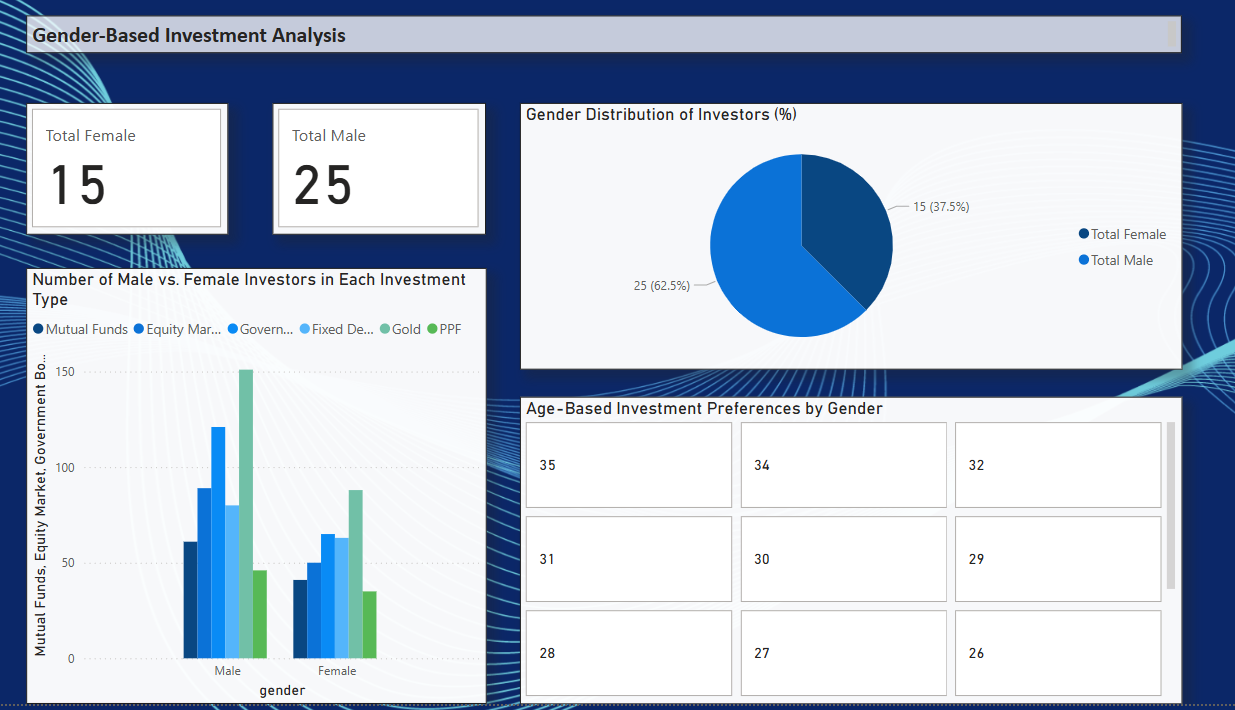

Layout of this report page (visuals, bound fields, positions):
{"tool":"powerbi","page":{"name":"Task 2","canvas":[1280,720],"ordinal":1},"visuals":[{"type":"cardVisual","fields":{"Data":["Data_set 2.Total Female"]},"box":[64.5,131.7,197.6,129],"z":0},{"type":"cardVisual","fields":{"Data":["Data_set 2.Total Male"]},"box":[306,131.7,208.6,129],"z":1000},{"type":"clusteredColumnChart","title":"Number of Male vs. Female Investors in Each Investment Type","fields":{"Category":["Data_set 2.gender"],"Y":["Sum(Data_set 2.Mutual_Funds)","Sum(Data_set 2.Equity_Market)","Sum(Data_set 2.Government_Bonds)","Sum(Data_set 2.Fixed_Deposits)","Sum(Data_set 2.Gold)","Sum(Data_set 2.PPF)"]},"box":[64.5,293.7,450.1,426.8],"z":2000},{"type":"pieChart","title":"Gender Distribution of Investors (%)","fields":{"Y":["Data_set 2.Total Female","Data_set 2.Total Male"]},"box":[547.5,131.7,647.7,260.7],"z":3000},{"type":"advancedSlicerVisual","title":"Age-Based Investment Preferences by Gender","fields":{"Values":["Data_set 2.age"]},"box":[547.5,419.9,647.7,300.5],"z":4000},{"type":"textbox","box":[64.5,46.7,1130.7,37],"z":5000}]}

Visuals, with their boxes in screenshot pixels (x1, y1, x2, y2), scaled from the page's 1280x720 canvas onto the 1235x710 screenshot:
cardVisual - Data_set 2.Total Female: select_region(62, 130, 253, 257)
cardVisual - Data_set 2.Total Male: select_region(295, 130, 497, 257)
"Number of Male vs. Female Investors in Each Investment Type" clusteredColumnChart: select_region(62, 290, 497, 709)
"Gender Distribution of Investors (%)" pieChart: select_region(528, 130, 1153, 387)
"Age-Based Investment Preferences by Gender" advancedSlicerVisual: select_region(528, 414, 1153, 709)
textbox: select_region(62, 46, 1153, 83)
